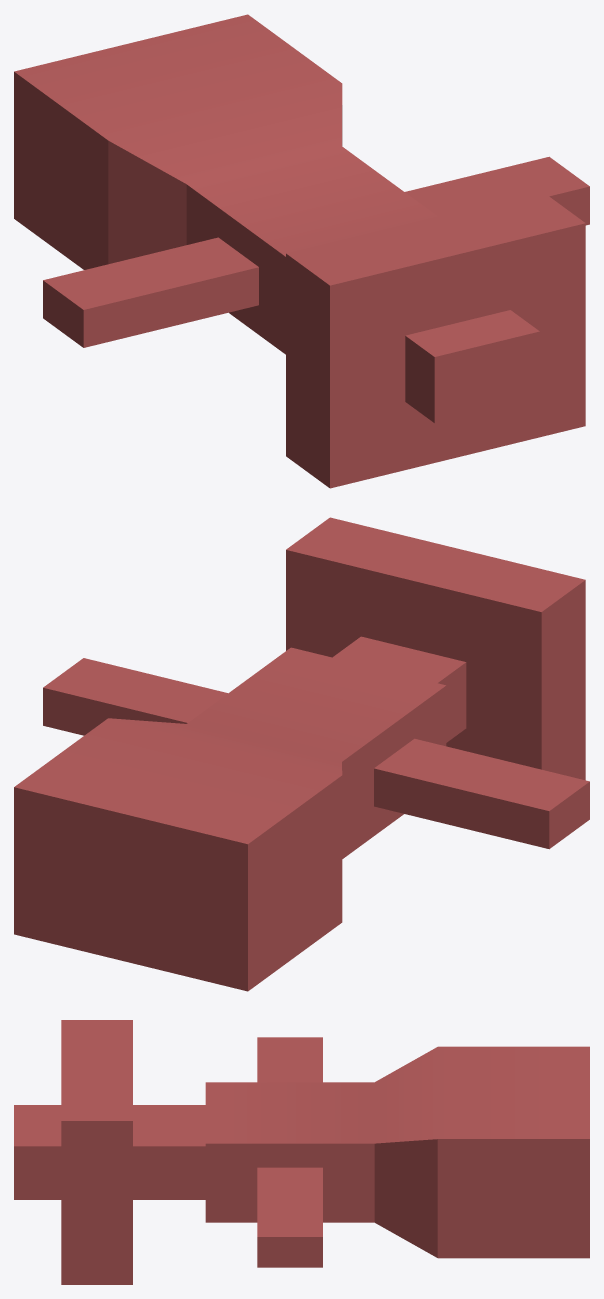
File: Person.fbx
3 views of the same model, one above another, from view 1: azimuth 30°, elevation 25°; view 2: azimuth 150°, elevation 25°; view 3: azimuth 270°, elevation 25° (orthographic). The views are drawn at different scales.
Visible parts, largest first — view 1: pCube1; view 2: pCube1; view 3: pCube1.
Boxes of the visible parts, x1,y1,x2,y2 form: pCube1: (14,14,589,488); pCube1: (14,517,589,991); pCube1: (14,1020,589,1284).
Size of the model in its own units: 11.85 by 4.54 by 14.44.
